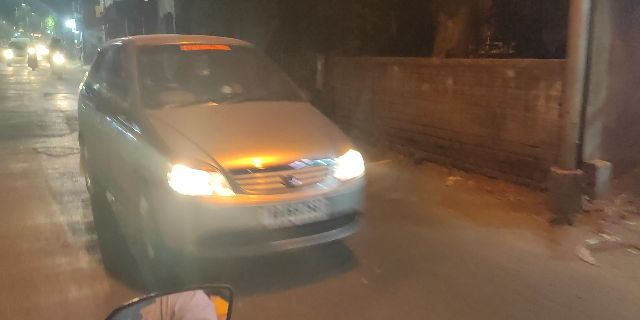Car: (80, 30, 371, 259)
